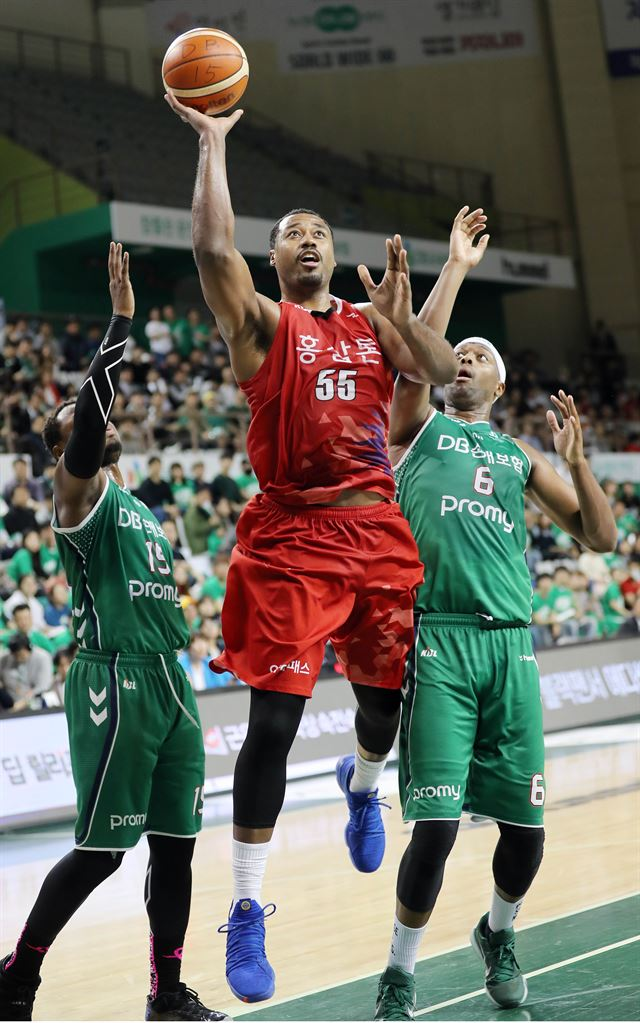ball: (156, 12, 259, 130)
defense: (366, 196, 586, 1023), (21, 229, 207, 1023)
shoot: (141, 10, 408, 1011)
